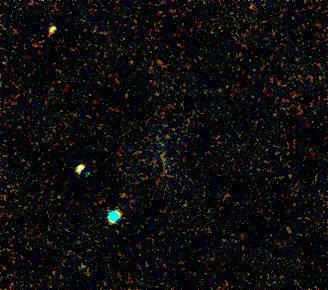star: (68, 254, 98, 284)
